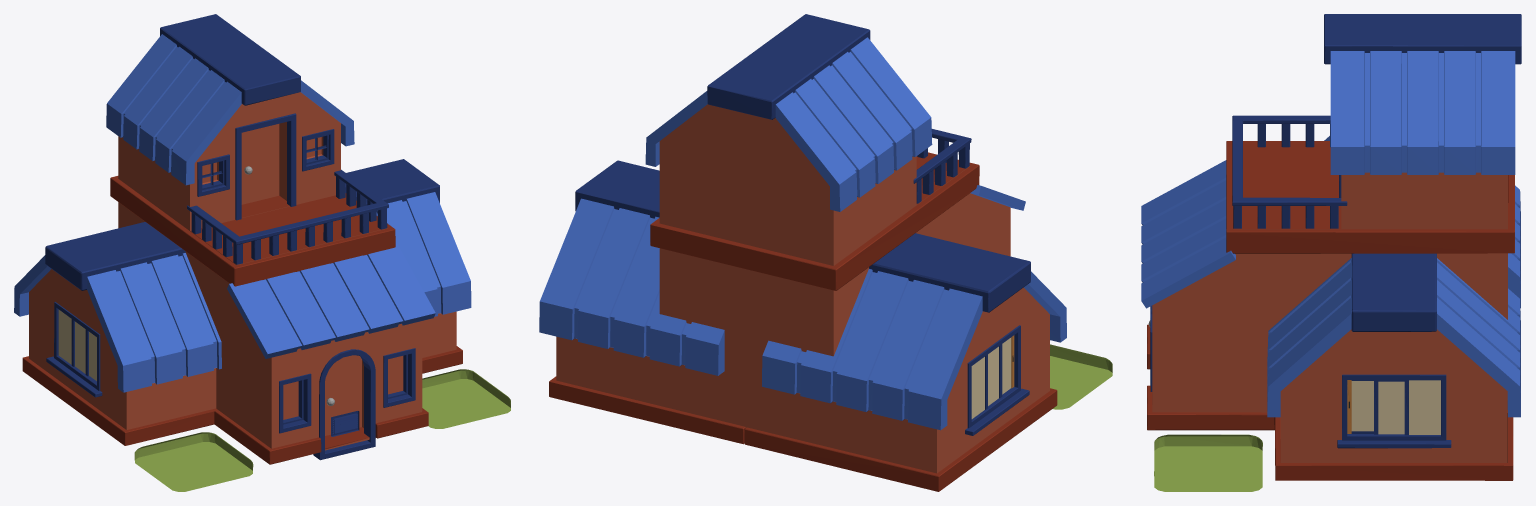
Rendered from casa-balcones.glb.
The picture shows the model from 3 angles, left to right: view 1: azimuth 30°, elevation 25°; view 2: azimuth 150°, elevation 25°; view 3: azimuth 270°, elevation 25°; orthographic projection. The views are drawn at different scales.
Visible parts, largest first — view 1: casa-balcones; view 2: casa-balcones; view 3: casa-balcones.
Part boxes in pixels (bbox=[...]): casa-balcones: bbox=[14, 14, 510, 491]; casa-balcones: bbox=[539, 14, 1112, 491]; casa-balcones: bbox=[1141, 14, 1521, 491].
Size of the model in its own units: 1 by 0.8412 by 0.7907.
